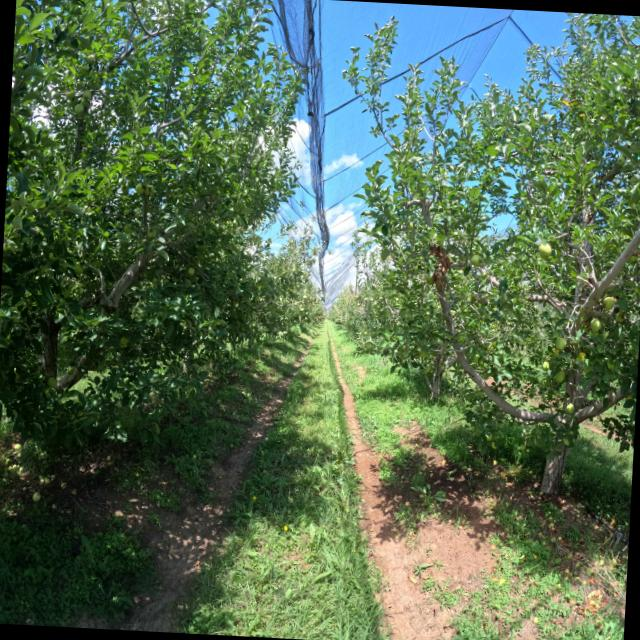-FireBlight-: (429, 247, 454, 296)
